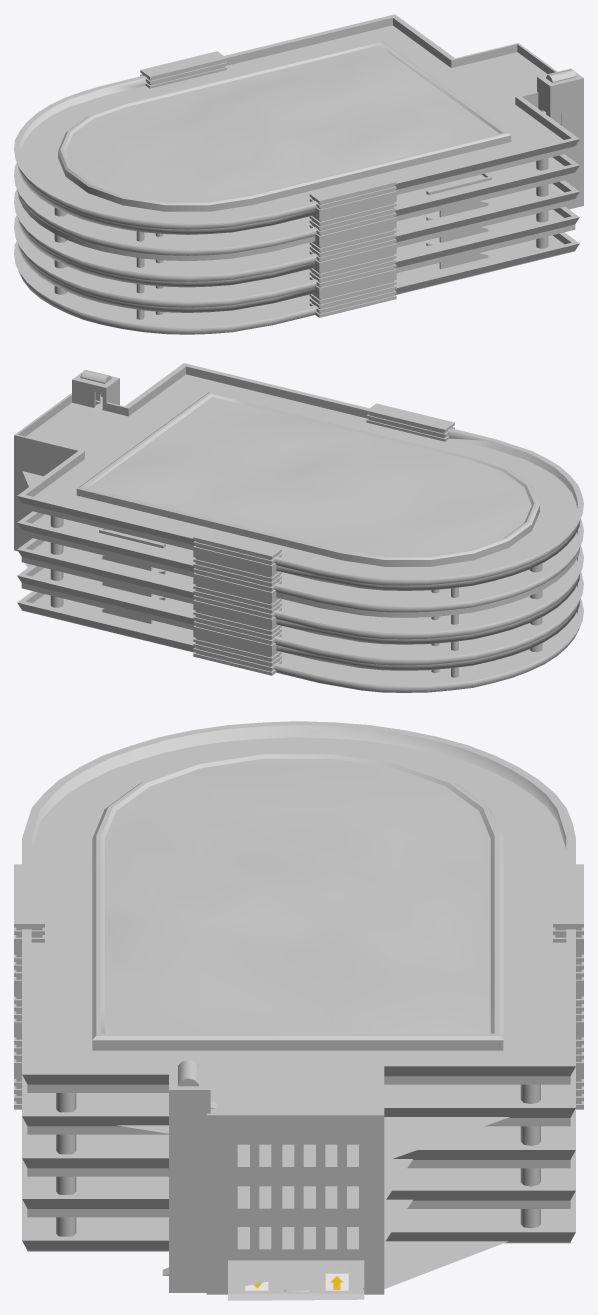
File: Park_haus.fbx
The picture shows the model from 3 angles, top to bottom: view 1: azimuth 30°, elevation 25°; view 2: azimuth 150°, elevation 25°; view 3: azimuth 270°, elevation 25°; orthographic projection. The views are drawn at different scales.
Parts seen in each view (by area): view 1: Park_garage, Grass_roof, Stone_roof; view 2: Park_garage, Grass_roof, Stone_roof; view 3: Park_garage, Grass_roof, Stone_roof, Floor_paint.
Boxes of the visible parts, left/top/right/bottom form: Park_garage: left=14, top=14, right=583, bottom=334; Grass_roof: left=66, top=45, right=499, bottom=201; Stone_roof: left=58, top=40, right=511, bottom=211; Park_garage: left=14, top=363, right=583, bottom=692; Grass_roof: left=89, top=397, right=531, bottom=555; Stone_roof: left=76, top=392, right=539, bottom=566; Park_garage: left=14, top=721, right=583, bottom=1300; Grass_roof: left=105, top=758, right=490, bottom=1033; Stone_roof: left=92, top=752, right=503, bottom=1050; Floor_paint: left=242, top=1186, right=357, bottom=1290.
Size of the model in its own units: 7011 by 1760 by 4232.
